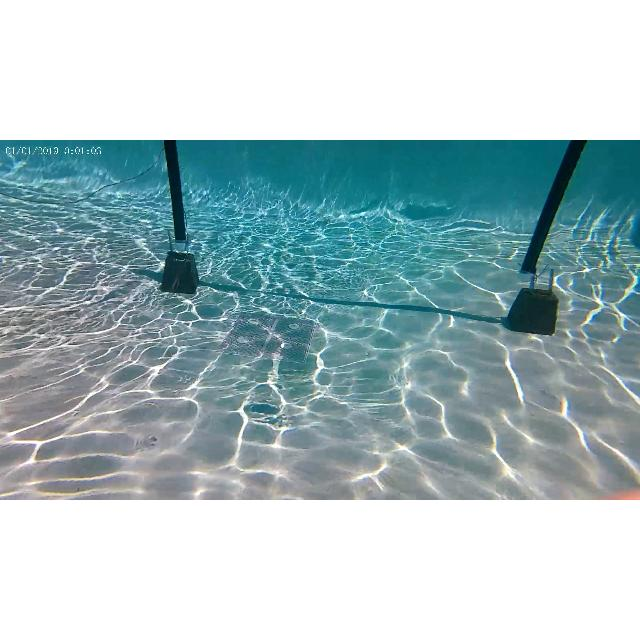prequal gate: (162, 140, 590, 282)
prequal gate leg l: (156, 140, 200, 296)
prequal gate leg r: (508, 140, 592, 334)
